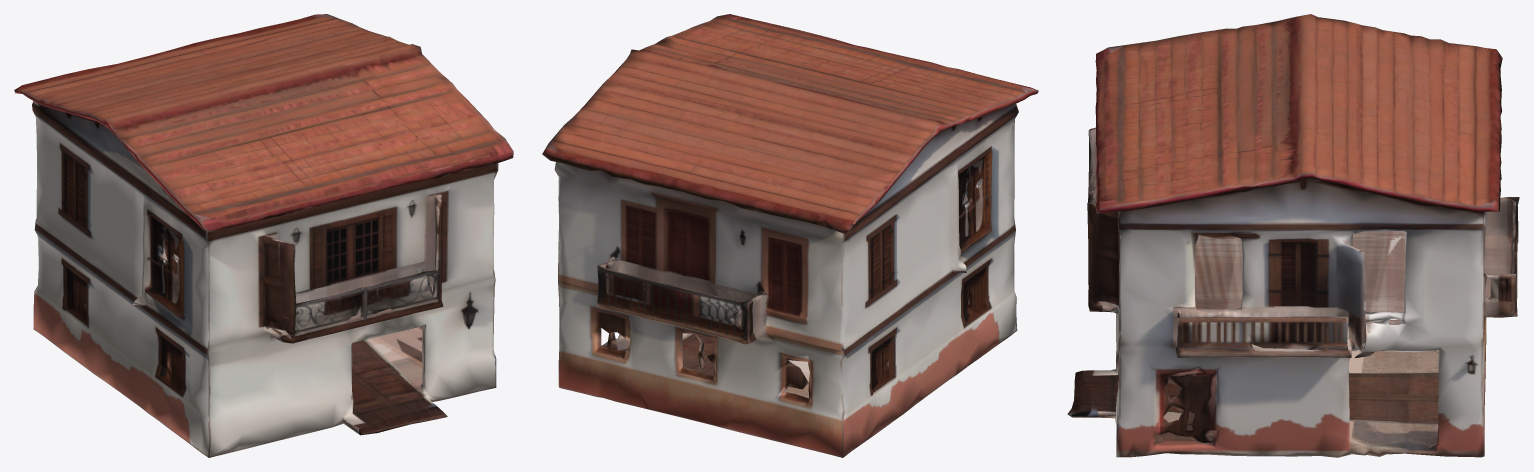
File: Generate_a_low_poly_3_0908105417_texture.fbx
3 renders of one model, left to right at view 1: azimuth 30°, elevation 25°; view 2: azimuth 150°, elevation 25°; view 3: azimuth 270°, elevation 25°, orthographic. The views are drawn at different scales.
Visible parts, largest first — view 1: Mesh1.0; view 2: Mesh1.0; view 3: Mesh1.0.
Part boxes in pixels (x1,y1,x2,y2): Mesh1.0: [14, 14, 513, 457]; Mesh1.0: [542, 14, 1038, 457]; Mesh1.0: [1067, 14, 1519, 457].
Bounding box in the file's own units: 179 × 145 × 203.
Materials: 1 (1 with a texture image).
